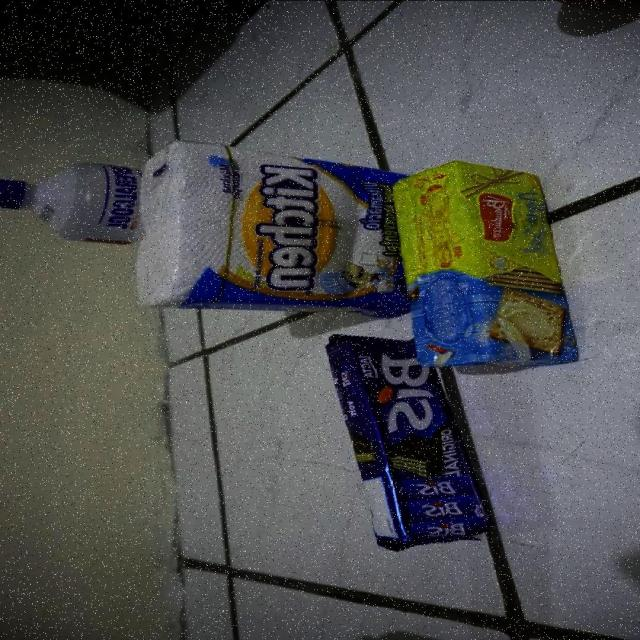AlcoholBottle: (1, 158, 136, 249)
Cracker: (392, 160, 579, 367)
Napkin: (142, 143, 392, 311)
